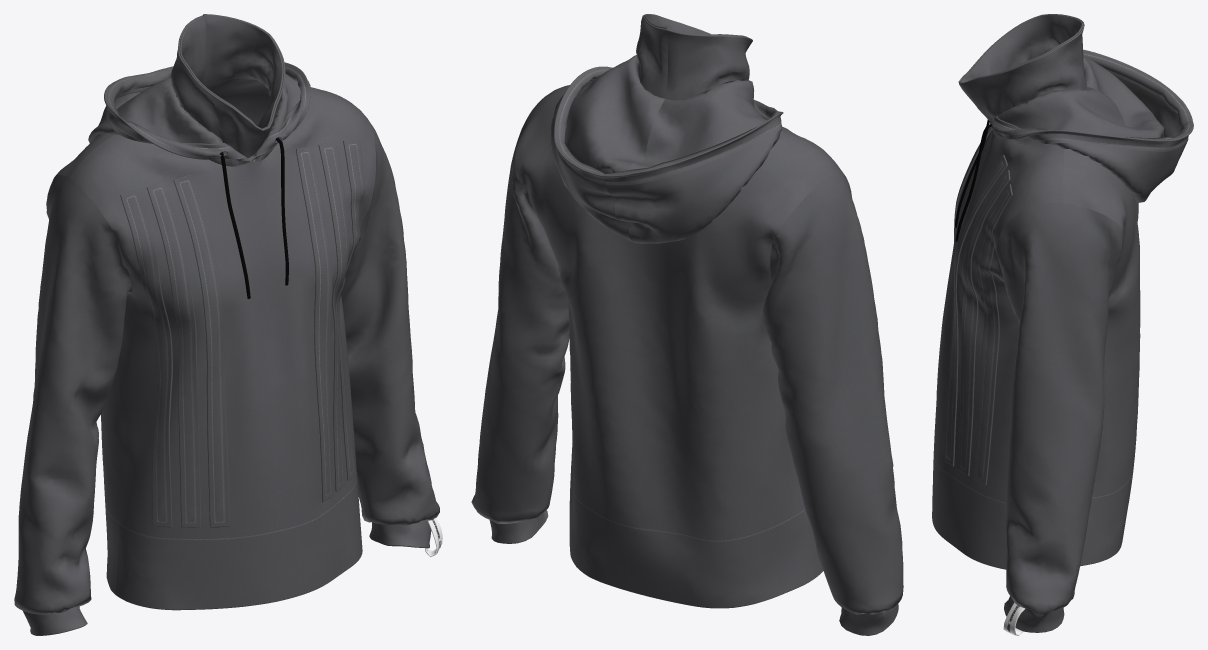
File: hoodie_core.glb
The picture shows the model from 3 angles, left to right: view 1: azimuth 30°, elevation 25°; view 2: azimuth 150°, elevation 25°; view 3: azimuth 270°, elevation 25°; orthographic projection. The views are drawn at different scales.
Parts seen in each view (by area): view 1: Object_5; view 2: Object_5; view 3: Object_5.
Part boxes in pixels (box(x1,y1,x2,y2)): Object_5: box(14, 14, 442, 635); Object_5: box(471, 14, 903, 635); Object_5: box(932, 14, 1193, 635).
Size of the model in its own units: 0.6395 by 0.8274 by 0.3745.
1 material, 1 textured.
